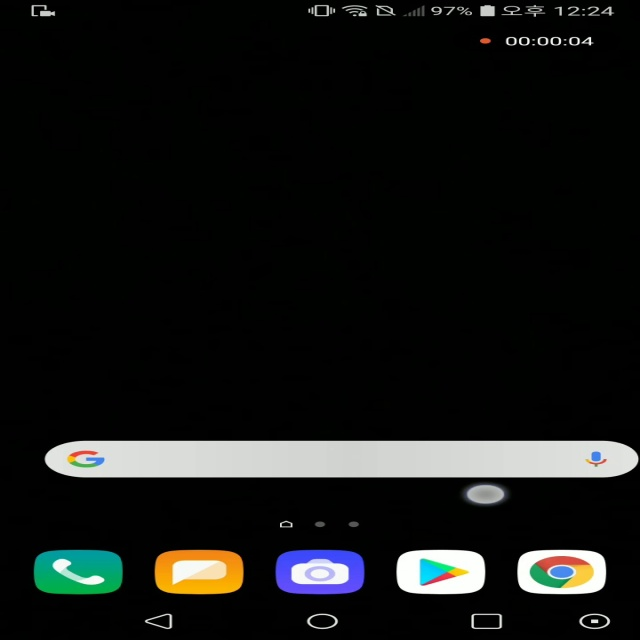Cursor: (465, 484, 510, 506)
